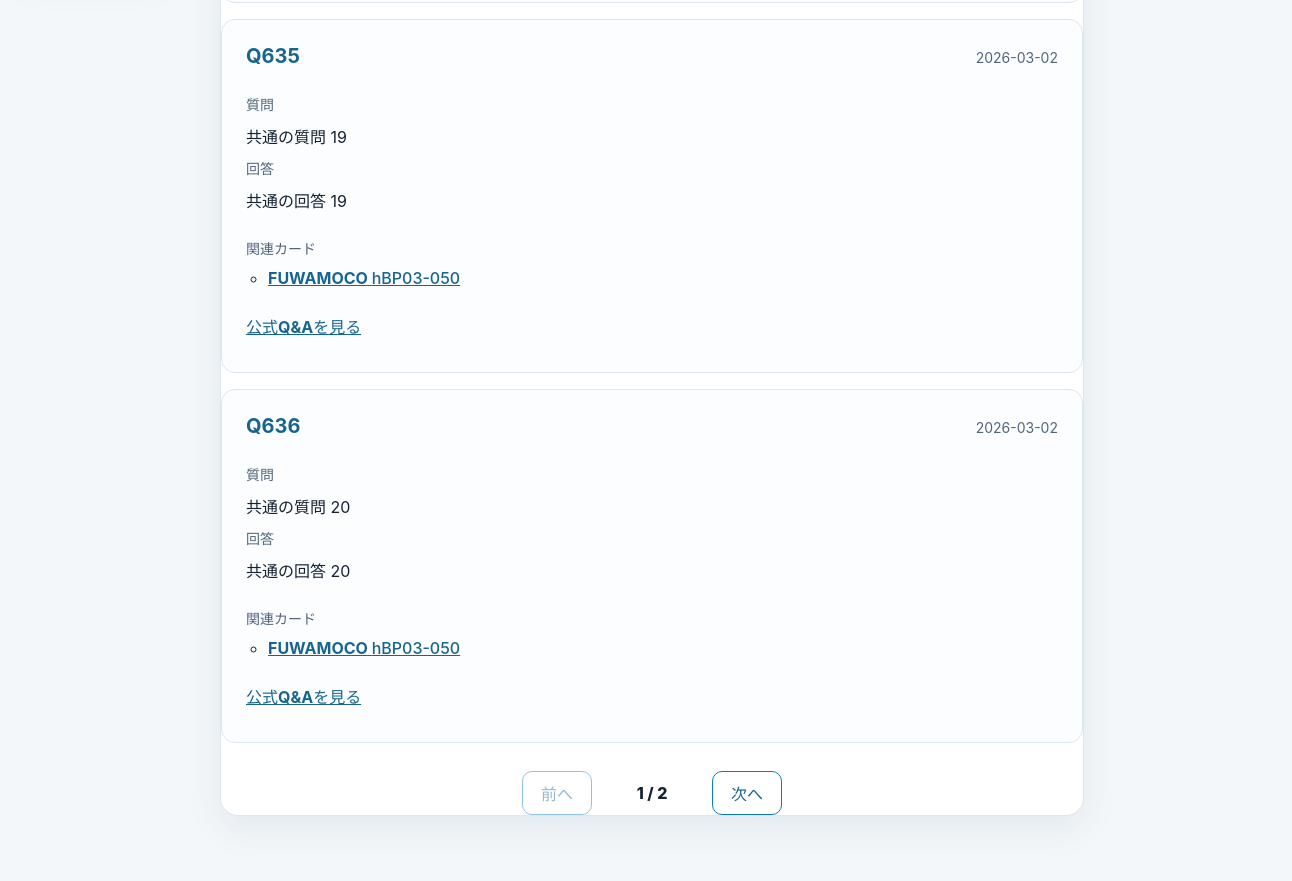
it: QaSearchPage › paginates 20 results and keeps query in URL
This screenshot has width=1292, height=881.
(page scrolled)
Check: the text "1 / 2" is shown, box left=637, top=783, right=667, bottom=803
Check: the button "前へ" is disabled, box left=522, top=771, right=592, bottom=815
Step 1. Click the button "次へ" → (747, 793), box left=712, top=771, right=782, bottom=815
(page scrolled)
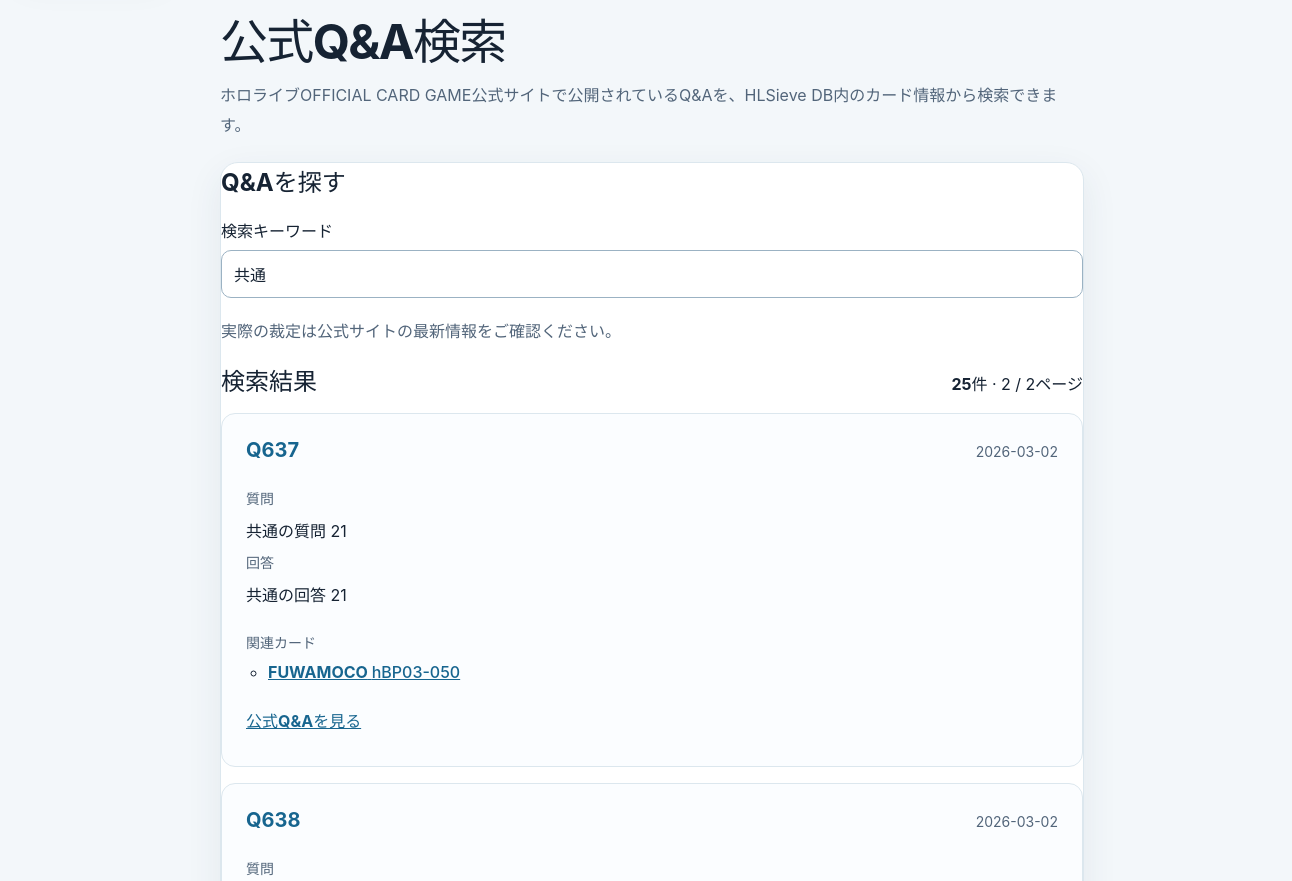
Check: the heading "Q637" is shown, box left=246, top=438, right=299, bottom=462
